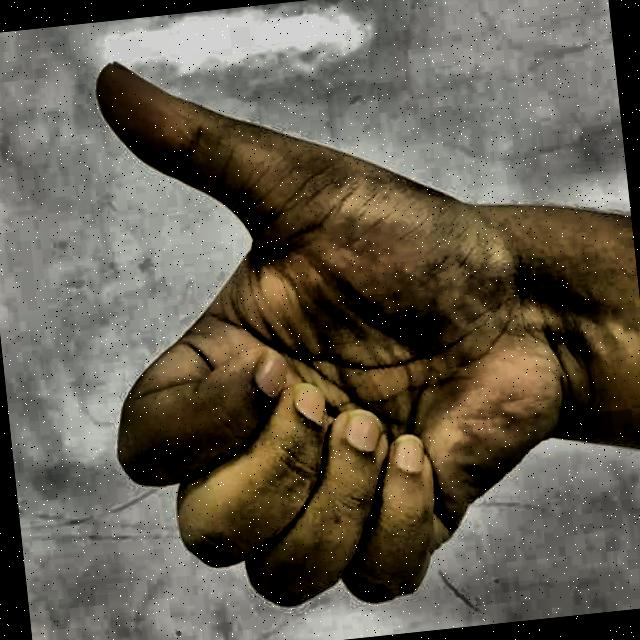Do: (37, 9, 592, 640)
